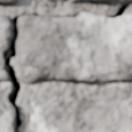brick: (29, 98, 131, 131), (0, 101, 12, 131), (57, 0, 76, 1), (109, 0, 128, 1), (0, 0, 15, 1)
broken_brick: (12, 13, 131, 84), (0, 12, 9, 82)
crack: (1, 0, 131, 131), (0, 108, 5, 119), (7, 125, 10, 131)
